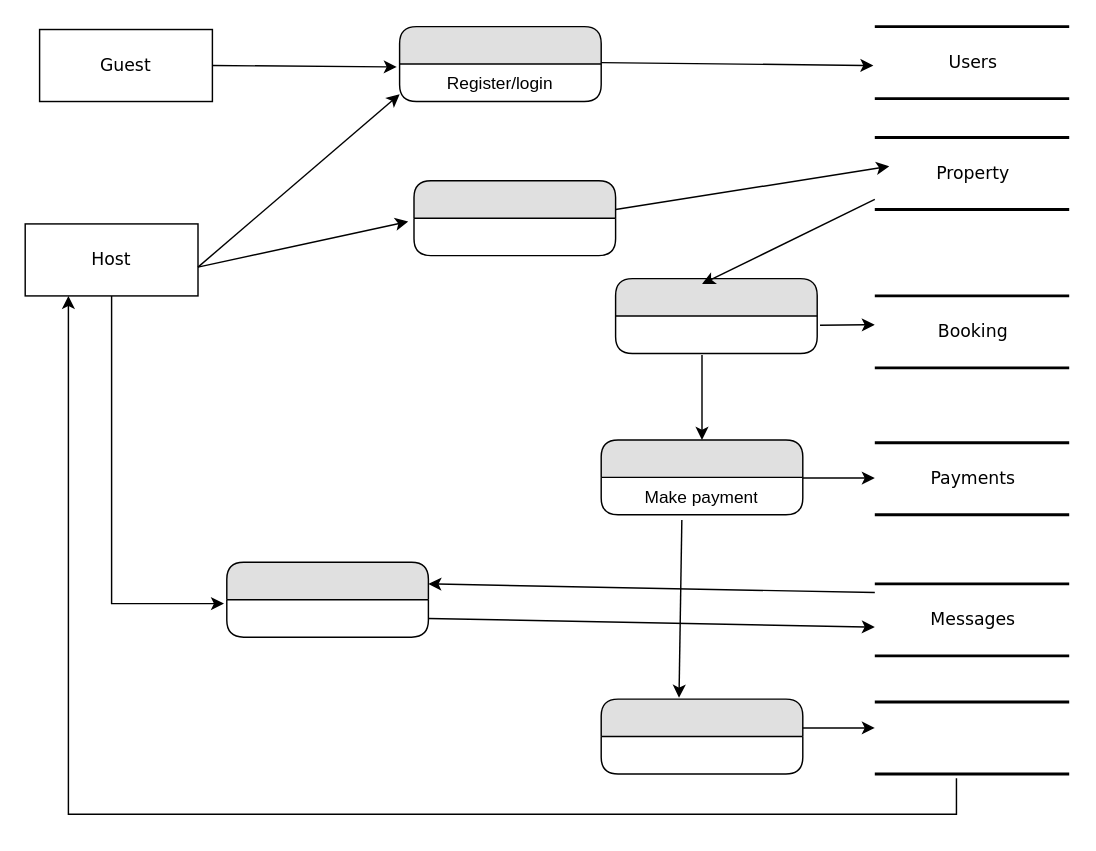
Some shapes in this 1096 by 851 pixel diagram are drawn without their labels. The centre of each missing label's shape, as x and y in pixels:
Add/Remove property: the point at 514,217
Leave review: the point at 701,736
Reviews: the point at 971,737
Search & book property: the point at 715,315
Send/Receive Message: the point at 326,599
